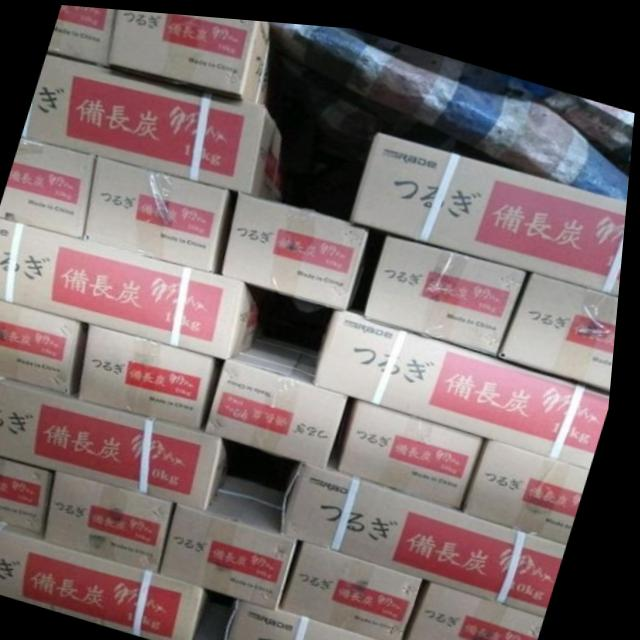box: (319, 302, 616, 460), (352, 125, 630, 284), (288, 456, 575, 606), (23, 53, 286, 197), (0, 217, 261, 356), (0, 526, 217, 640), (366, 229, 532, 347), (210, 328, 355, 461), (167, 470, 307, 605), (225, 187, 374, 305), (87, 153, 233, 268), (108, 7, 271, 102), (346, 391, 489, 499), (86, 323, 223, 426), (506, 264, 623, 381), (293, 537, 429, 637), (470, 430, 595, 536), (53, 469, 180, 570), (0, 138, 98, 237), (417, 574, 554, 640), (0, 298, 89, 394), (238, 594, 412, 640), (0, 456, 63, 539), (47, 4, 116, 65)
